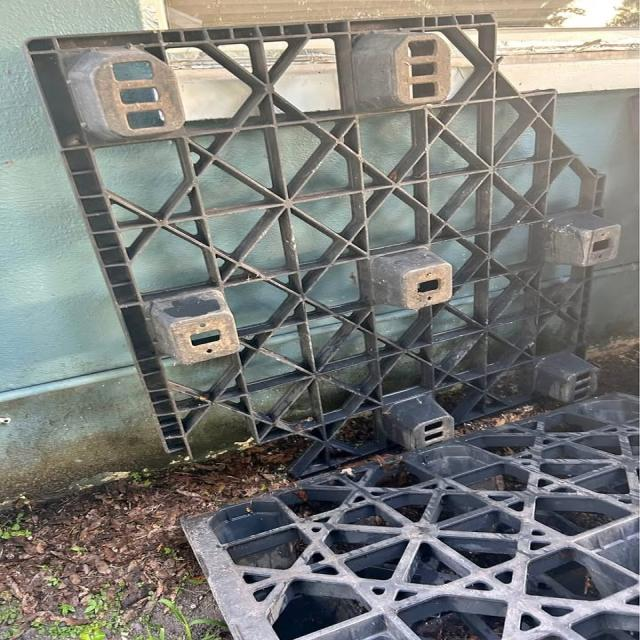non-igps: (16, 8, 639, 484), (174, 381, 640, 640)
